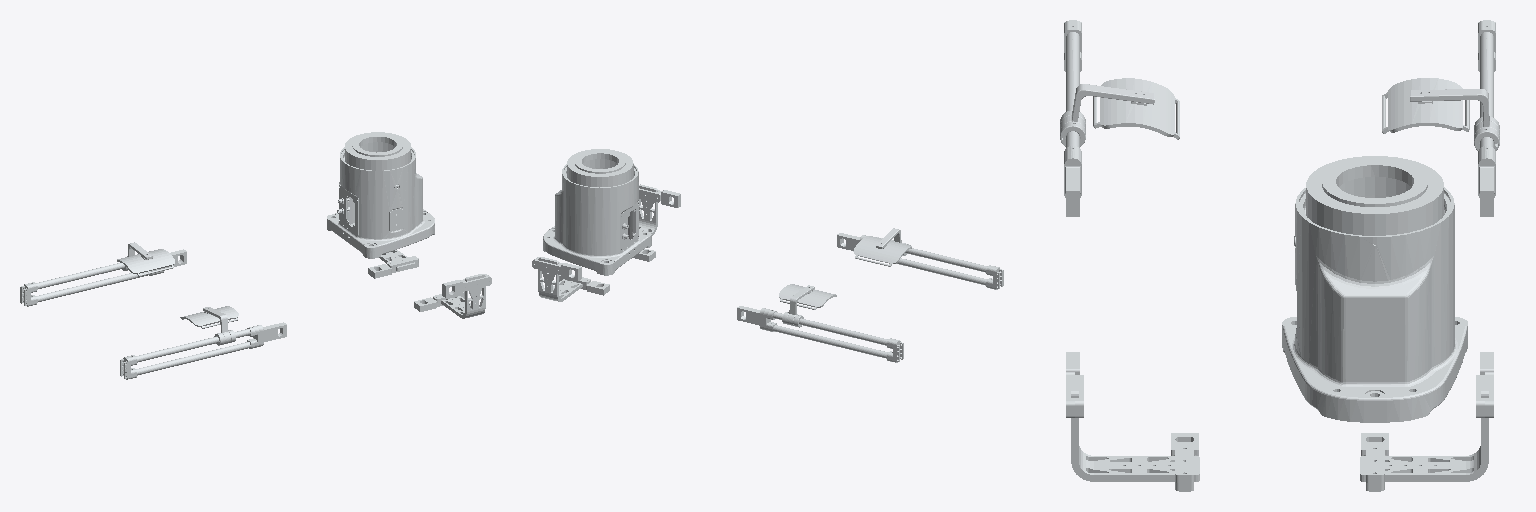
robot.urdf — exo:
<?xml version="1.0" encoding="utf-8"?>
<!-- This URDF was automatically created by SolidWorks to URDF Exporter! Originally created by [author] ([email redacted]) 
     Commit Version: 1.6.0-4-g7f85cfe  Build Version: 1.6.7995.38578
     For more information, please see http://wiki.ros.org/sw_urdf_exporter -->
<robot
  name="exo">
  <link
    name="base_link">
    <inertial>
      <origin
        xyz="0.0034138 -0.1254 -0.1285"
        rpy="0 0 0" />
      <mass
        value="3.6015" />
      <inertia
        ixx="0.0035299"
        ixy="-1.1671E-06"
        ixz="9.82E-06"
        iyy="0.0028399"
        iyz="-4.1754E-08"
        izz="0.0061042" />
    </inertial>
    <visual>
      <origin
        xyz="0 0 0"
        rpy="0 0 0" />
      <geometry>
        <mesh
          filename="meshes/base_link.STL" />
      </geometry>
      <material
        name="">
        <color
          rgba="0.89804 0.91765 0.92941 1" />
      </material>
    </visual>
    <collision>
      <origin
        xyz="0 0 0"
        rpy="0 0 0" />
      <geometry>
        <mesh
          filename="meshes/base_link.STL" />
      </geometry>
    </collision>
  </link>
  <link
    name="R_hip_ab_Link">
    <inertial>
      <origin
        xyz="0.062961 0.084633 -0.065069"
        rpy="0 0 0" />
      <mass
        value="0.70297" />
      <inertia
        ixx="0.0015946"
        ixy="-9.7055E-06"
        ixz="9.7056E-06"
        iyy="0.0011657"
        iyz="-0.00045578"
        izz="0.0016625" />
    </inertial>
    <visual>
      <origin
        xyz="0 0 0"
        rpy="0 0 0" />
      <geometry>
        <mesh
          filename="meshes/R_hip_ab_Link.STL" />
      </geometry>
      <material
        name="">
        <color
          rgba="0.89804 0.91765 0.92941 1" />
      </material>
    </visual>
    <collision>
      <origin
        xyz="0 0 0"
        rpy="0 0 0" />
      <geometry>
        <mesh
          filename="meshes/R_hip_ab_Link.STL" />
      </geometry>
    </collision>
  </link>
  <joint
    name="R_hip_ab"
    type="revolute">
    <origin
      xyz="0 0 0"
      rpy="0 0 0" />
    <parent
      link="base_link" />
    <child
      link="R_hip_ab_Link" />
    <axis
      xyz="0 0 1" />
    <limit
      lower="0"
      upper="0"
      effort="0"
      velocity="0" />
  </joint>
  <link
    name="R_hip_flex_link">
    <inertial>
      <origin
        xyz="-0.25942 0.0061337 -0.048518"
        rpy="0 0 0" />
      <mass
        value="3.3538" />
      <inertia
        ixx="0.0027427"
        ixy="-5.5939E-07"
        ixz="-1.307E-07"
        iyy="0.0040281"
        iyz="-6.4922E-05"
        izz="0.0059218" />
    </inertial>
    <visual>
      <origin
        xyz="0 0 0"
        rpy="0 0 0" />
      <geometry>
        <mesh
          filename="meshes/R_hip_flex_link.STL" />
      </geometry>
      <material
        name="">
        <color
          rgba="0.89804 0.91765 0.92941 1" />
      </material>
    </visual>
    <collision>
      <origin
        xyz="0 0 0"
        rpy="0 0 0" />
      <geometry>
        <mesh
          filename="meshes/R_hip_flex_link.STL" />
      </geometry>
    </collision>
  </link>
  <joint
    name="R_hip_flex"
    type="revolute">
    <origin
      xyz="0 0.121 0"
      rpy="1.5708 0 0" />
    <parent
      link="R_hip_ab_Link" />
    <child
      link="R_hip_flex_link" />
    <axis
      xyz="0 0 1" />
    <limit
      lower="0"
      upper="0"
      effort="0"
      velocity="0" />
  </joint>
  <link
    name="R_knee_link">
    <inertial>
      <origin
        xyz="-0.17215 0.025186 -0.0014145"
        rpy="0 0 0" />
      <mass
        value="0.75992" />
      <inertia
        ixx="0.00047703"
        ixy="9.6405E-09"
        ixz="-6.3773E-09"
        iyy="0.0023194"
        iyz="-4.8885E-05"
        izz="0.0021608" />
    </inertial>
    <visual>
      <origin
        xyz="0 0 0"
        rpy="0 0 0" />
      <geometry>
        <mesh
          filename="meshes/R_knee_link.STL" />
      </geometry>
      <material
        name="">
        <color
          rgba="0.89804 0.91765 0.92941 1" />
      </material>
    </visual>
    <collision>
      <origin
        xyz="0 0 0"
        rpy="0 0 0" />
      <geometry>
        <mesh
          filename="meshes/R_knee_link.STL" />
      </geometry>
    </collision>
  </link>
  <joint
    name="R_knee"
    type="revolute">
    <origin
      xyz="-0.543 0 0"
      rpy="0 0 0" />
    <parent
      link="R_hip_flex_link" />
    <child
      link="R_knee_link" />
    <axis
      xyz="0 0 1" />
    <limit
      lower="0"
      upper="0"
      effort="0"
      velocity="0" />
  </joint>
  <link
    name="L_hip_ab_link">
    <inertial>
      <origin
        xyz="0.062961 -0.084633 -0.065069"
        rpy="0 0 0" />
      <mass
        value="0.70297" />
      <inertia
        ixx="0.0015946"
        ixy="9.7056E-06"
        ixz="9.7056E-06"
        iyy="0.0011657"
        iyz="0.00045578"
        izz="0.0016625" />
    </inertial>
    <visual>
      <origin
        xyz="0 0 0"
        rpy="0 0 0" />
      <geometry>
        <mesh
          filename="meshes/L_hip_ab_link.STL" />
      </geometry>
      <material
        name="">
        <color
          rgba="0.89804 0.91765 0.92941 1" />
      </material>
    </visual>
    <collision>
      <origin
        xyz="0 0 0"
        rpy="0 0 0" />
      <geometry>
        <mesh
          filename="meshes/L_hip_ab_link.STL" />
      </geometry>
    </collision>
  </link>
  <joint
    name="L_hip_ab"
    type="revolute">
    <origin
      xyz="0 -0.25077 0"
      rpy="0 0 0" />
    <parent
      link="base_link" />
    <child
      link="L_hip_ab_link" />
    <axis
      xyz="0 0 1" />
    <limit
      lower="0"
      upper="0"
      effort="0"
      velocity="0" />
  </joint>
  <link
    name="L_hip_flex_link">
    <inertial>
      <origin
        xyz="-0.26043 -0.0056676 -0.047641"
        rpy="0 0 0" />
      <mass
        value="3.5709" />
      <inertia
        ixx="0.0028594"
        ixy="2.4549E-08"
        ixz="5.8238E-08"
        iyy="0.0041484"
        iyz="5.9975E-05"
        izz="0.0059578" />
    </inertial>
    <visual>
      <origin
        xyz="0 0 0"
        rpy="0 0 0" />
      <geometry>
        <mesh
          filename="meshes/L_hip_flex_link.STL" />
      </geometry>
      <material
        name="">
        <color
          rgba="0.89804 0.91765 0.92941 1" />
      </material>
    </visual>
    <collision>
      <origin
        xyz="0 0 0"
        rpy="0 0 0" />
      <geometry>
        <mesh
          filename="meshes/L_hip_flex_link.STL" />
      </geometry>
    </collision>
  </link>
  <joint
    name="L_hip_flex"
    type="revolute">
    <origin
      xyz="0 -0.121 0"
      rpy="-1.5708 0 0" />
    <parent
      link="L_hip_ab_link" />
    <child
      link="L_hip_flex_link" />
    <axis
      xyz="0 0 1" />
    <limit
      lower="0"
      upper="0"
      effort="0"
      velocity="0" />
  </joint>
  <link
    name="L_knee_link">
    <inertial>
      <origin
        xyz="-0.18036 -0.022106 0.00031702"
        rpy="0 0 0" />
      <mass
        value="0.75992" />
      <inertia
        ixx="0.00047703"
        ixy="1.033E-08"
        ixz="5.1968E-09"
        iyy="0.0023279"
        iyz="2.1846E-05"
        izz="0.0021524" />
    </inertial>
    <visual>
      <origin
        xyz="0 0 0"
        rpy="0 0 0" />
      <geometry>
        <mesh
          filename="meshes/L_knee_link.STL" />
      </geometry>
      <material
        name="">
        <color
          rgba="0.89804 0.91765 0.92941 1" />
      </material>
    </visual>
    <collision>
      <origin
        xyz="0 0 0"
        rpy="0 0 0" />
      <geometry>
        <mesh
          filename="meshes/L_knee_link.STL" />
      </geometry>
    </collision>
  </link>
  <joint
    name="L_knee"
    type="revolute">
    <origin
      xyz="-0.543 0 0"
      rpy="0 0 0" />
    <parent
      link="L_hip_flex_link" />
    <child
      link="L_knee_link" />
    <axis
      xyz="0 0 1" />
    <limit
      lower="0"
      upper="0"
      effort="0"
      velocity="0" />
  </joint>
</robot>

--- What the picture shows (computed from the rendered views, not written in the file) ---
The picture shows the robot from 3 angles, left to right: view 1: azimuth 30°, elevation 25°; view 2: azimuth 150°, elevation 25°; view 3: azimuth 270°, elevation 25°; orthographic projection.
Model exo with 7 links and 6 joints (6 revolute), rooted at base_link, posed all joints at 0.
Links seen in each view (by area): view 1: base_link, L_knee_link, R_knee_link, L_hip_ab_link, R_hip_ab_Link; view 2: base_link, R_knee_link, L_knee_link, R_hip_ab_Link, L_hip_ab_link; view 3: base_link, L_knee_link, R_knee_link, R_hip_ab_Link, L_hip_ab_link.
Boxes of the visible links, x1,y1,x2,y2 form: base_link: (327,132,434,258); L_knee_link: (120,306,286,379); R_knee_link: (20,242,186,306); L_hip_ab_link: (414,274,491,318); R_hip_ab_Link: (368,250,418,278); base_link: (543,149,651,275); R_knee_link: (737,284,903,362); L_knee_link: (837,228,1003,289); R_hip_ab_Link: (532,257,609,301); L_hip_ab_link: (633,184,680,261); base_link: (1282,156,1467,422); L_knee_link: (1060,20,1179,216); R_knee_link: (1382,20,1499,216); R_hip_ab_Link: (1360,352,1493,491); L_hip_ab_link: (1066,352,1199,491).
Size in the robot's own frame: 1.2 by 0.5798 by 0.393 metres.
Meshes: 7 distinct files referenced, 5 mesh visuals loaded (5 binary STL); not drawn: 2 (reference not matched to a file when rendering).